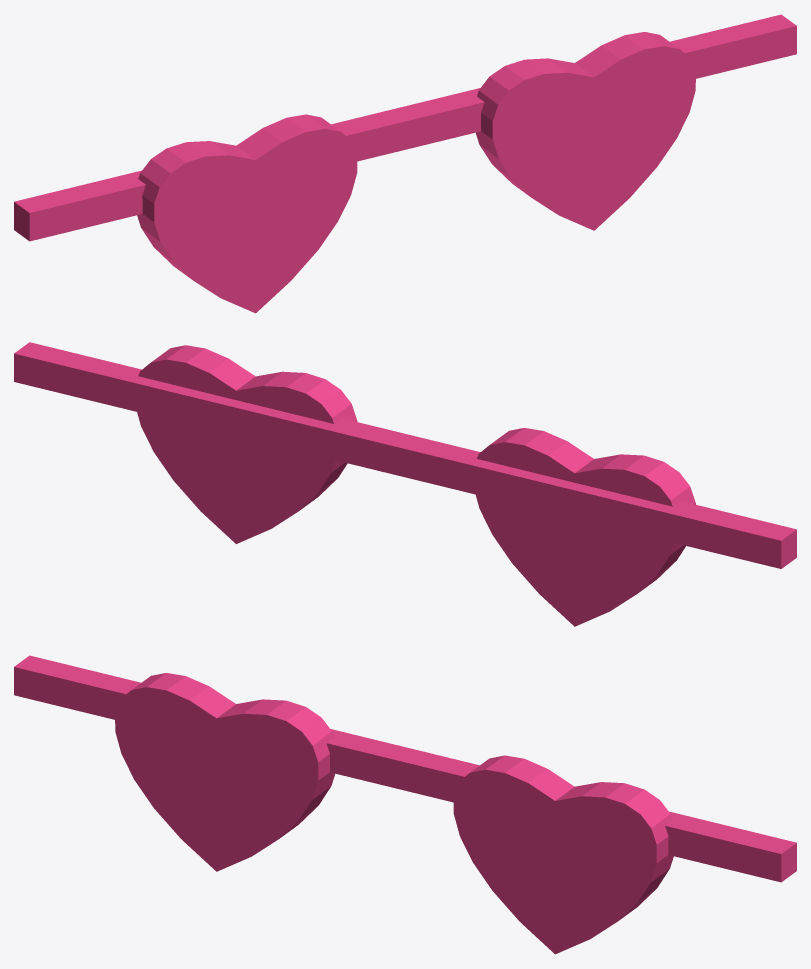
The model's file is party_trait_glasses_heart.glb.
3 views of the same model, one above another, from view 1: azimuth 30°, elevation 25°; view 2: azimuth 150°, elevation 25°; view 3: azimuth 330°, elevation 25° (orthographic).
Parts seen in each view (by area): view 1: glasses_trait_heart; view 2: glasses_trait_heart; view 3: glasses_trait_heart.
Part boxes in pixels (x1,y1,x2,y2): glasses_trait_heart: (14, 14, 796, 313); glasses_trait_heart: (14, 342, 796, 626); glasses_trait_heart: (14, 655, 796, 954).
Bounding box in the file's own units: 0.34 × 0.0716 × 0.021.
